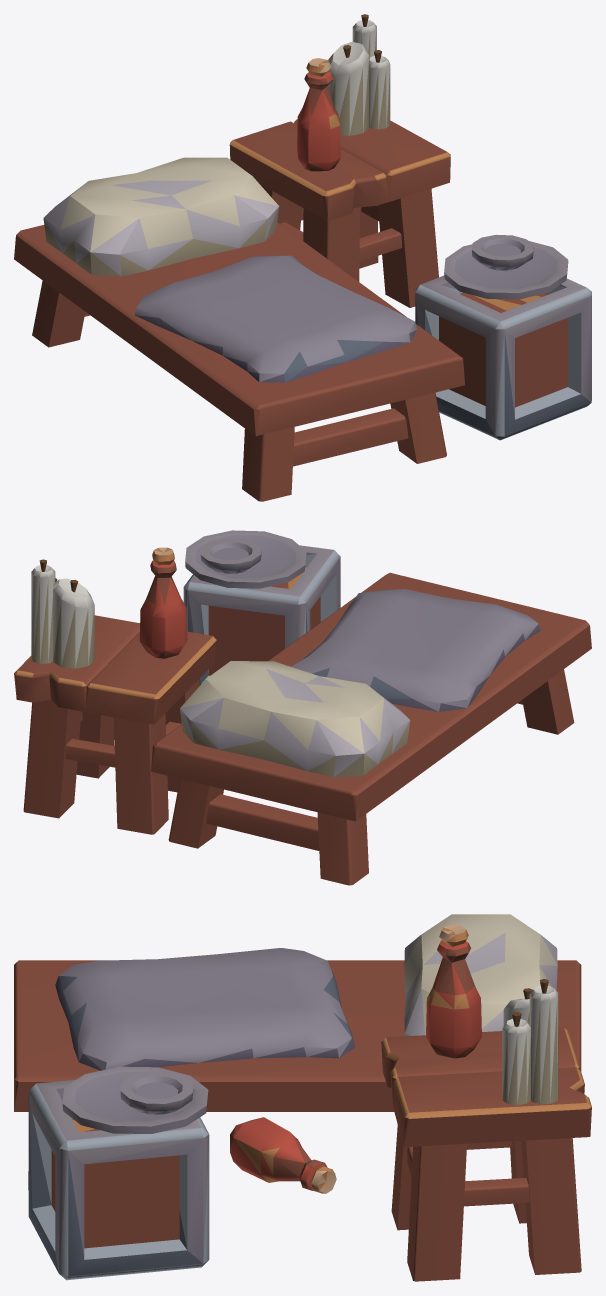
3 renders of one model, top to bottom at view 1: azimuth 30°, elevation 25°; view 2: azimuth 150°, elevation 25°; view 3: azimuth 270°, elevation 25°, orthographic. The views are drawn at different scales.
Parts seen in each view (by area): view 1: model; view 2: model; view 3: model.
Boxes of the visible parts, box(x1,y1,x2,y2) form: model: box(14, 14, 591, 501); model: box(14, 530, 591, 885); model: box(14, 914, 591, 1281).
Bounding box in the file's own units: 1.82 × 1.19 × 2.14.
